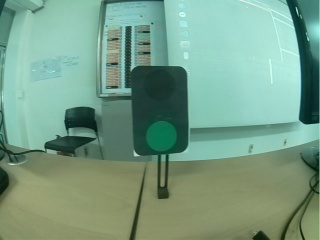green_light: (134, 67, 189, 150)
